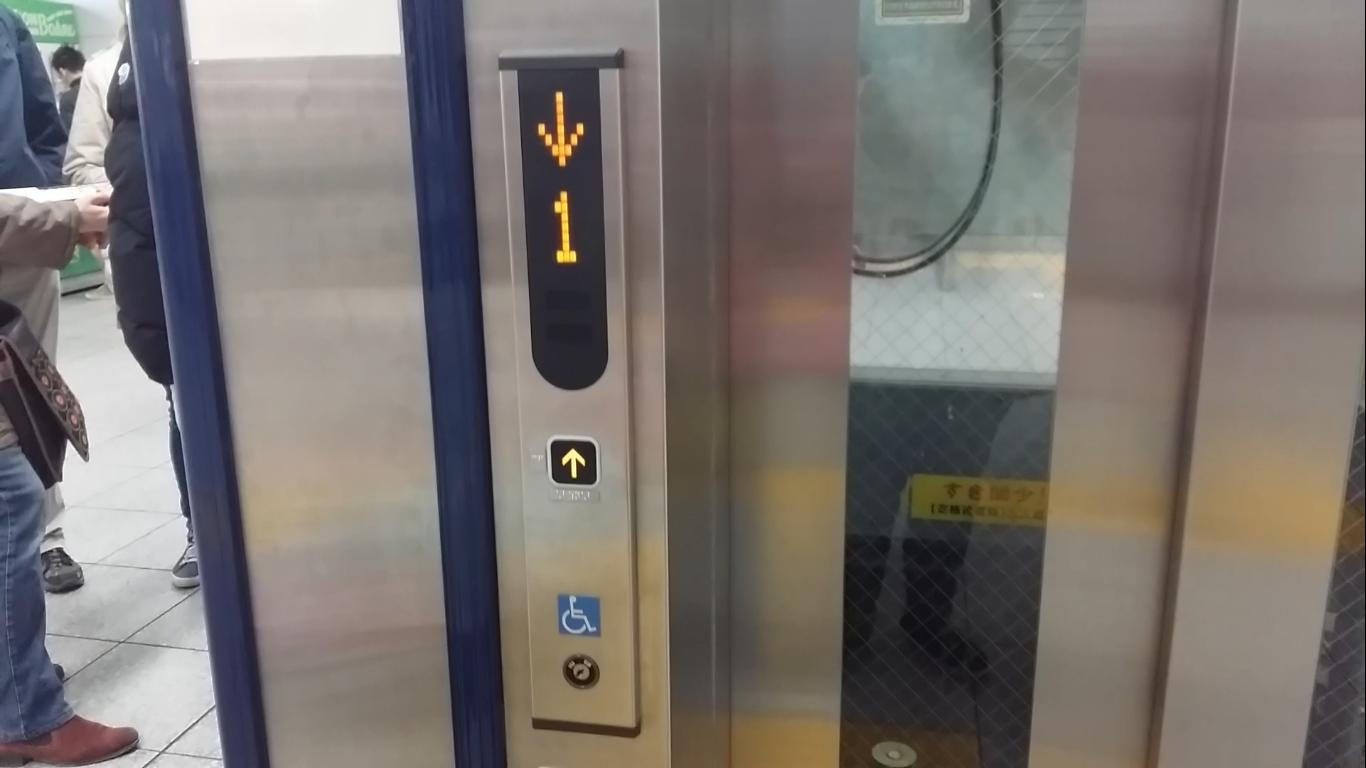CH: (556, 591, 602, 638)
keyhole: (562, 655, 602, 691)
led: (515, 65, 609, 390)
up: (543, 435, 602, 490)
